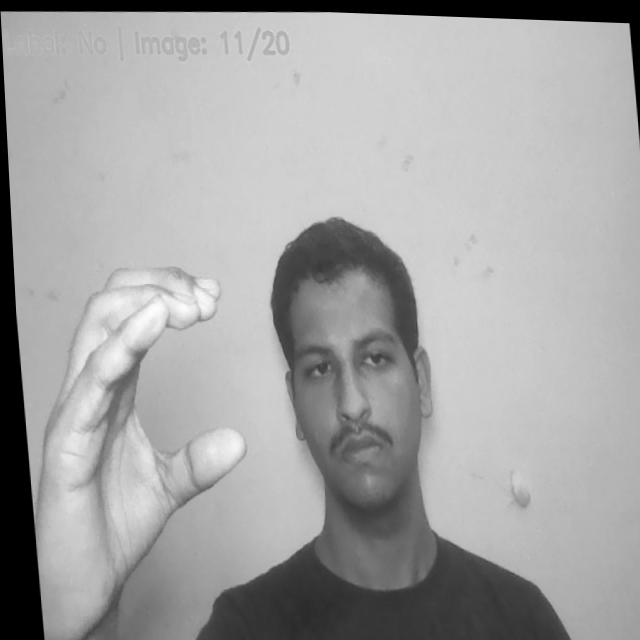No: (25, 262, 258, 640)
